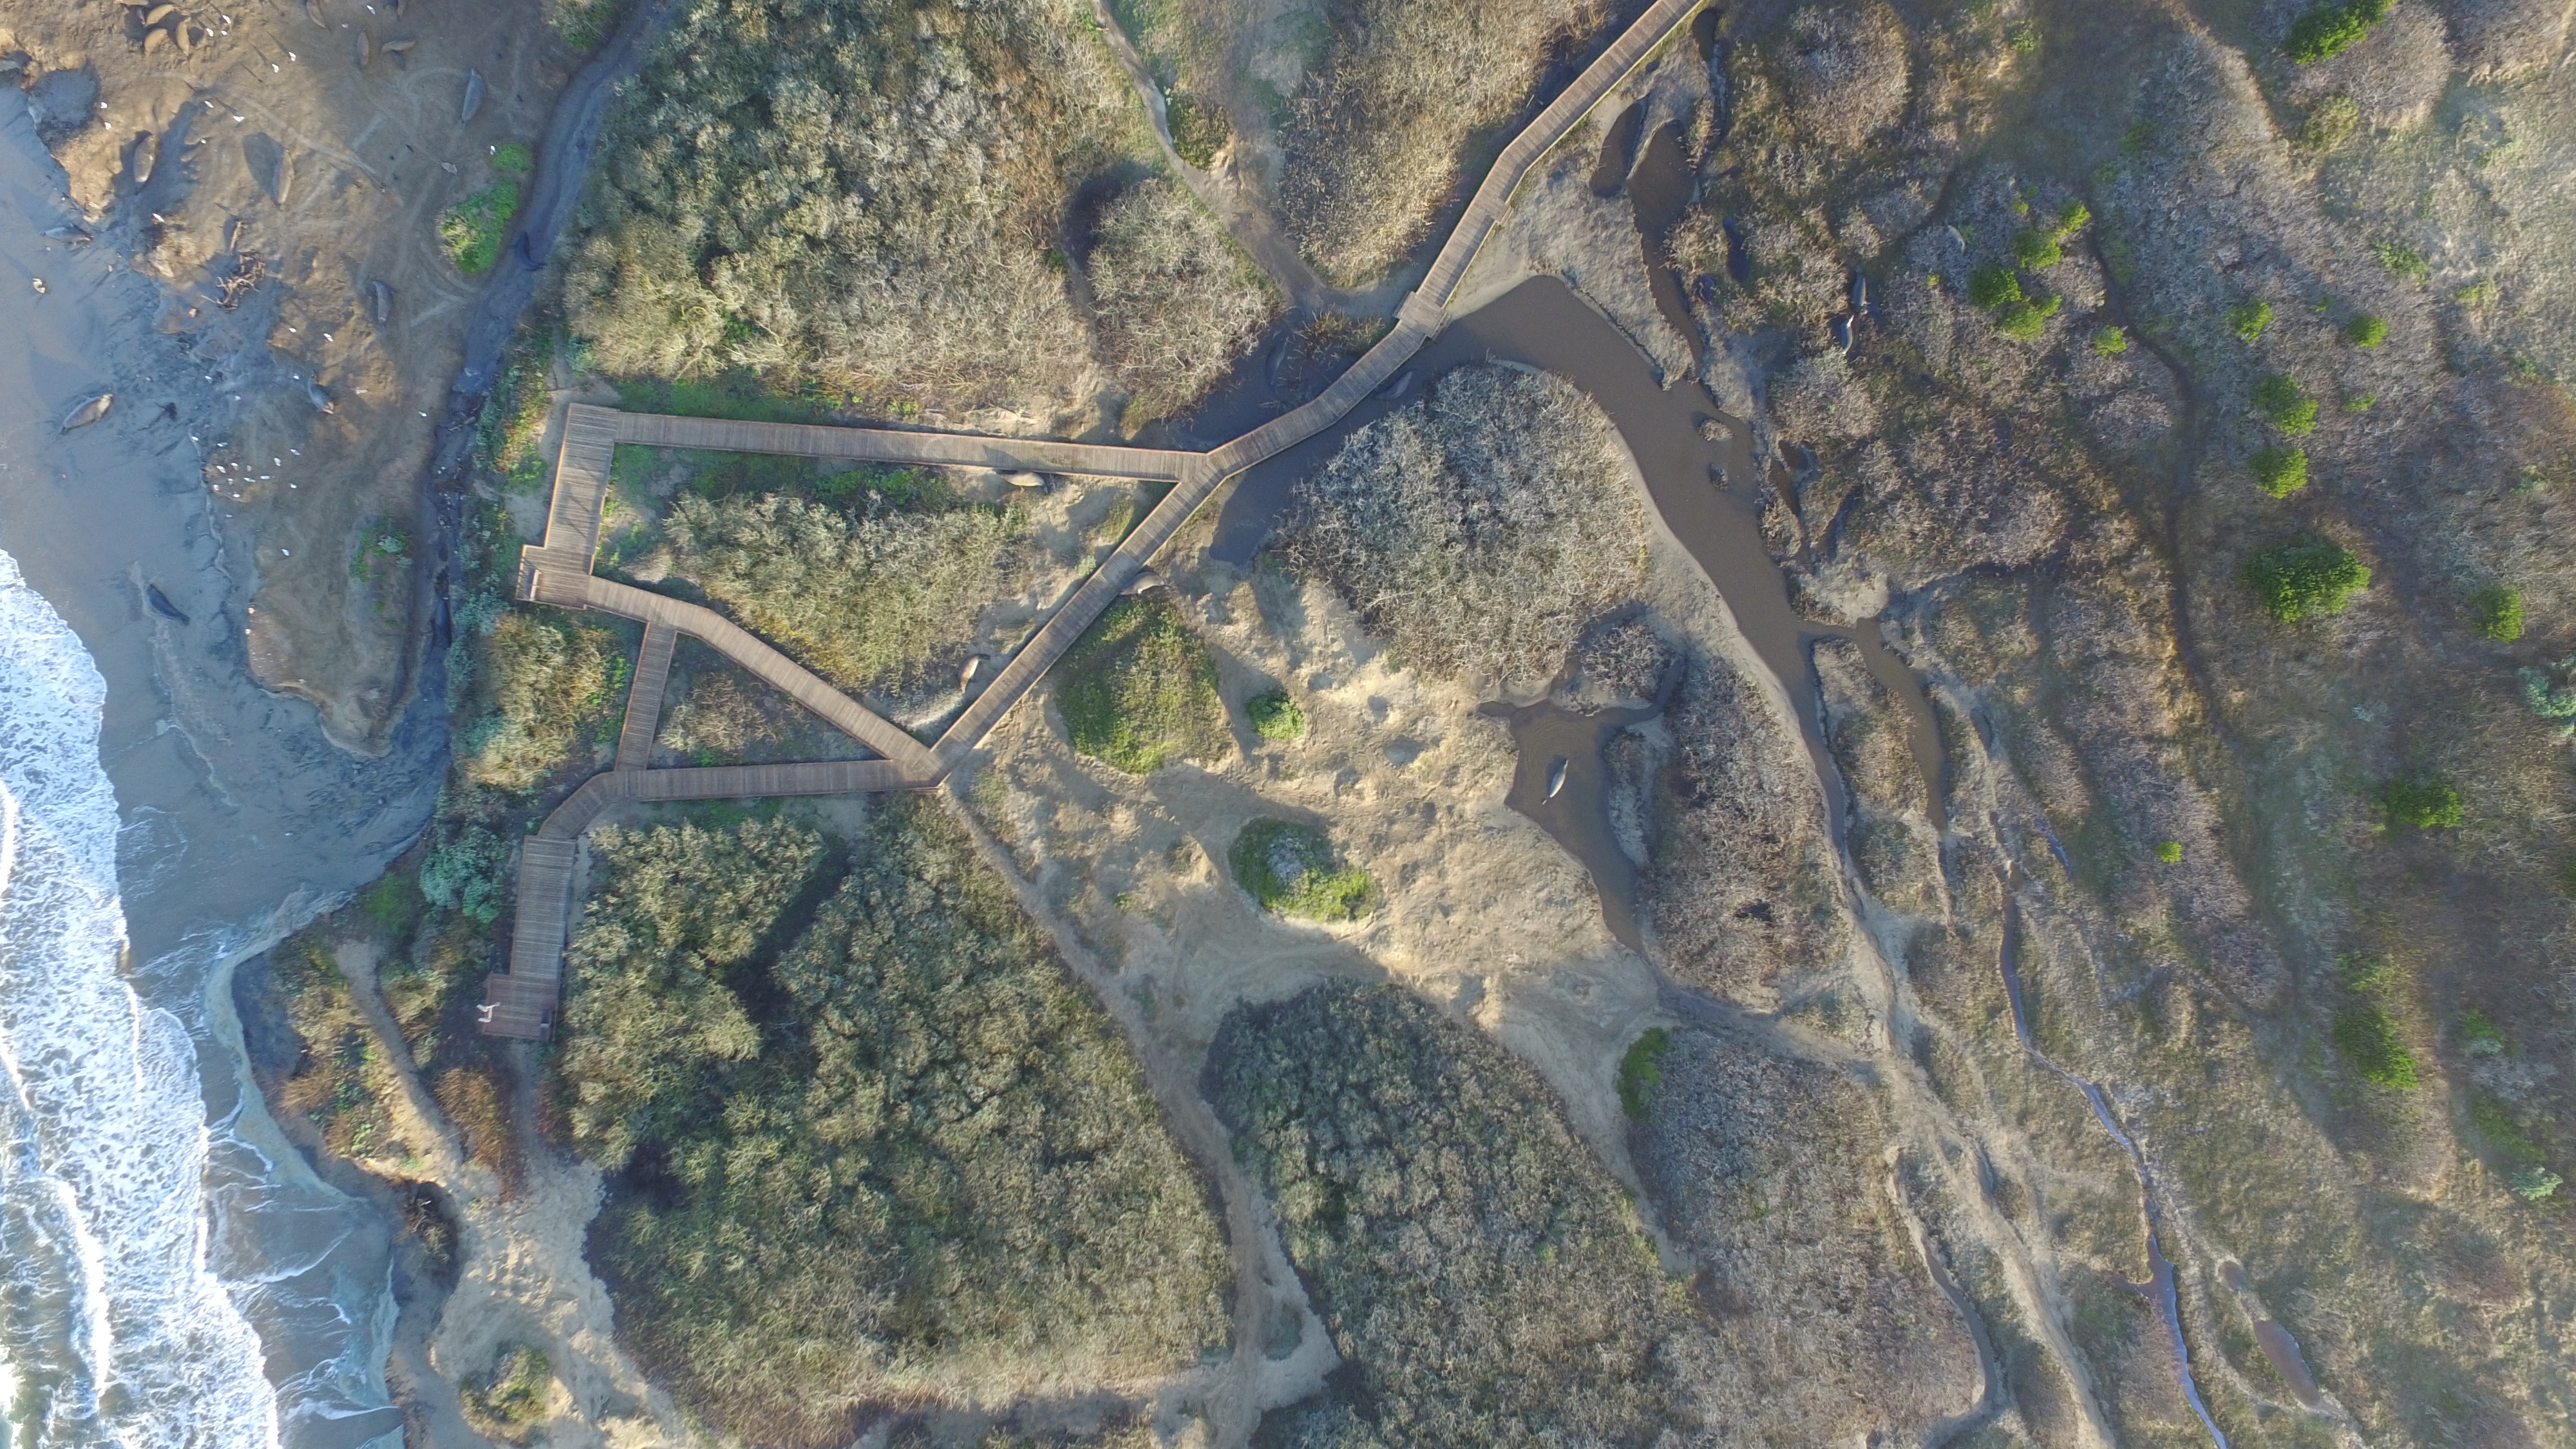adult male: (57, 393, 113, 433), (147, 582, 191, 628), (133, 133, 161, 196), (456, 69, 487, 127), (439, 159, 458, 179)
male juvenile / female juvenile / adulf female: (993, 469, 1056, 499), (955, 648, 991, 699), (511, 230, 552, 274), (41, 221, 96, 253), (1265, 334, 1292, 395), (308, 368, 338, 418), (1375, 368, 1415, 403), (370, 280, 400, 327), (1541, 757, 1569, 805), (1120, 570, 1168, 596), (432, 596, 451, 653), (1851, 269, 1872, 310), (140, 28, 168, 57), (301, 0, 327, 28), (173, 19, 193, 57), (377, 37, 418, 55), (1946, 223, 1967, 257), (1840, 313, 1856, 356), (145, 5, 175, 27), (357, 28, 368, 71), (393, 0, 409, 25), (113, 2, 152, 7)
pup: (387, 51, 409, 69), (195, 27, 209, 50), (134, 9, 145, 27)
